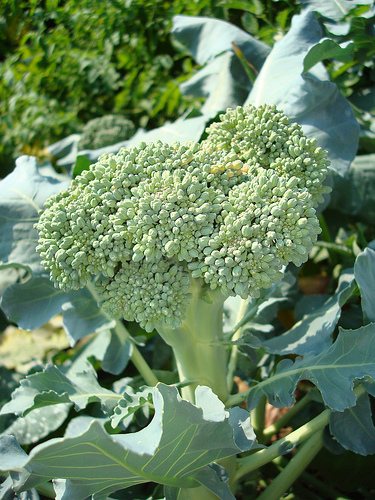broccoli: (33, 107, 331, 400)
